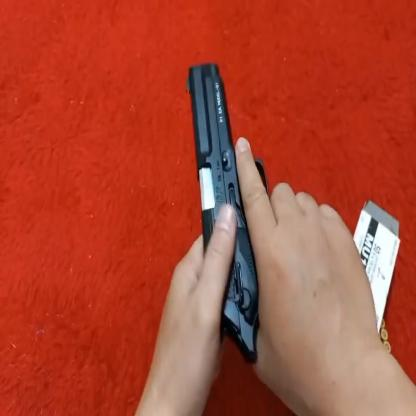handgun: (184, 52, 274, 366)
